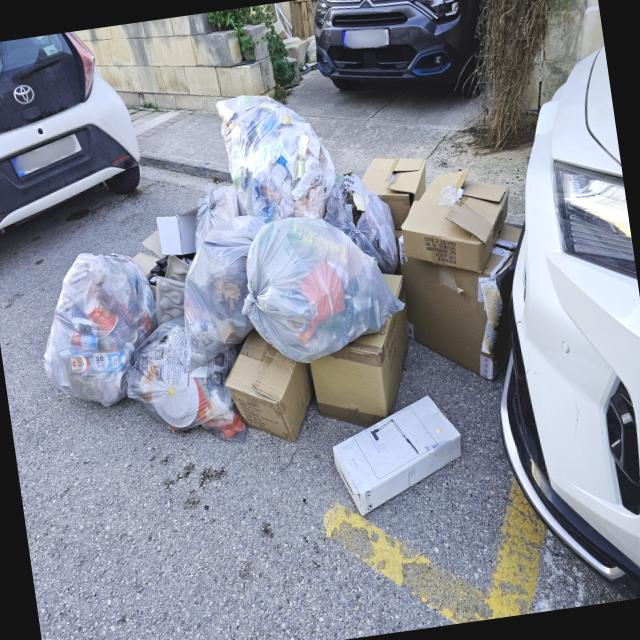grey_bag: (229, 202, 412, 372), (29, 245, 168, 418), (164, 210, 290, 376), (118, 314, 251, 462), (210, 81, 342, 229), (322, 166, 402, 280), (184, 178, 238, 252)
other_waste: (386, 158, 534, 398), (322, 388, 472, 524), (218, 321, 320, 447), (306, 336, 406, 426), (359, 145, 435, 224), (144, 225, 190, 322)
